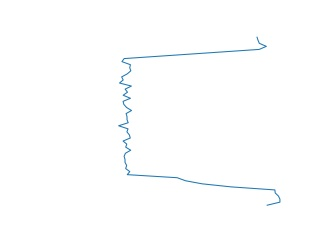distributaryChannelFill: (115, 38, 286, 206)
